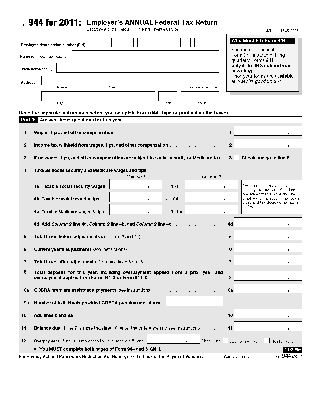checkbox: (222, 337, 229, 344), (264, 337, 271, 344), (233, 154, 240, 161)
textbox: (55, 62, 220, 74), (40, 75, 220, 86), (70, 50, 220, 61), (40, 91, 156, 102), (233, 320, 303, 333), (233, 229, 304, 241), (233, 254, 304, 266), (233, 283, 304, 295), (233, 307, 304, 319), (233, 125, 303, 137), (233, 216, 303, 228), (233, 138, 304, 149), (234, 242, 305, 253), (233, 270, 304, 281), (165, 295, 224, 308), (146, 333, 202, 345), (109, 178, 164, 190), (109, 191, 164, 203), (109, 203, 164, 215), (184, 178, 239, 190), (184, 191, 239, 203), (184, 203, 239, 215), (181, 90, 220, 102), (157, 90, 179, 102), (86, 37, 98, 48), (100, 37, 112, 48), (123, 37, 135, 48), (137, 37, 149, 48), (151, 37, 163, 48), (165, 37, 177, 48), (180, 37, 192, 48), (194, 37, 206, 48), (208, 37, 220, 48)
